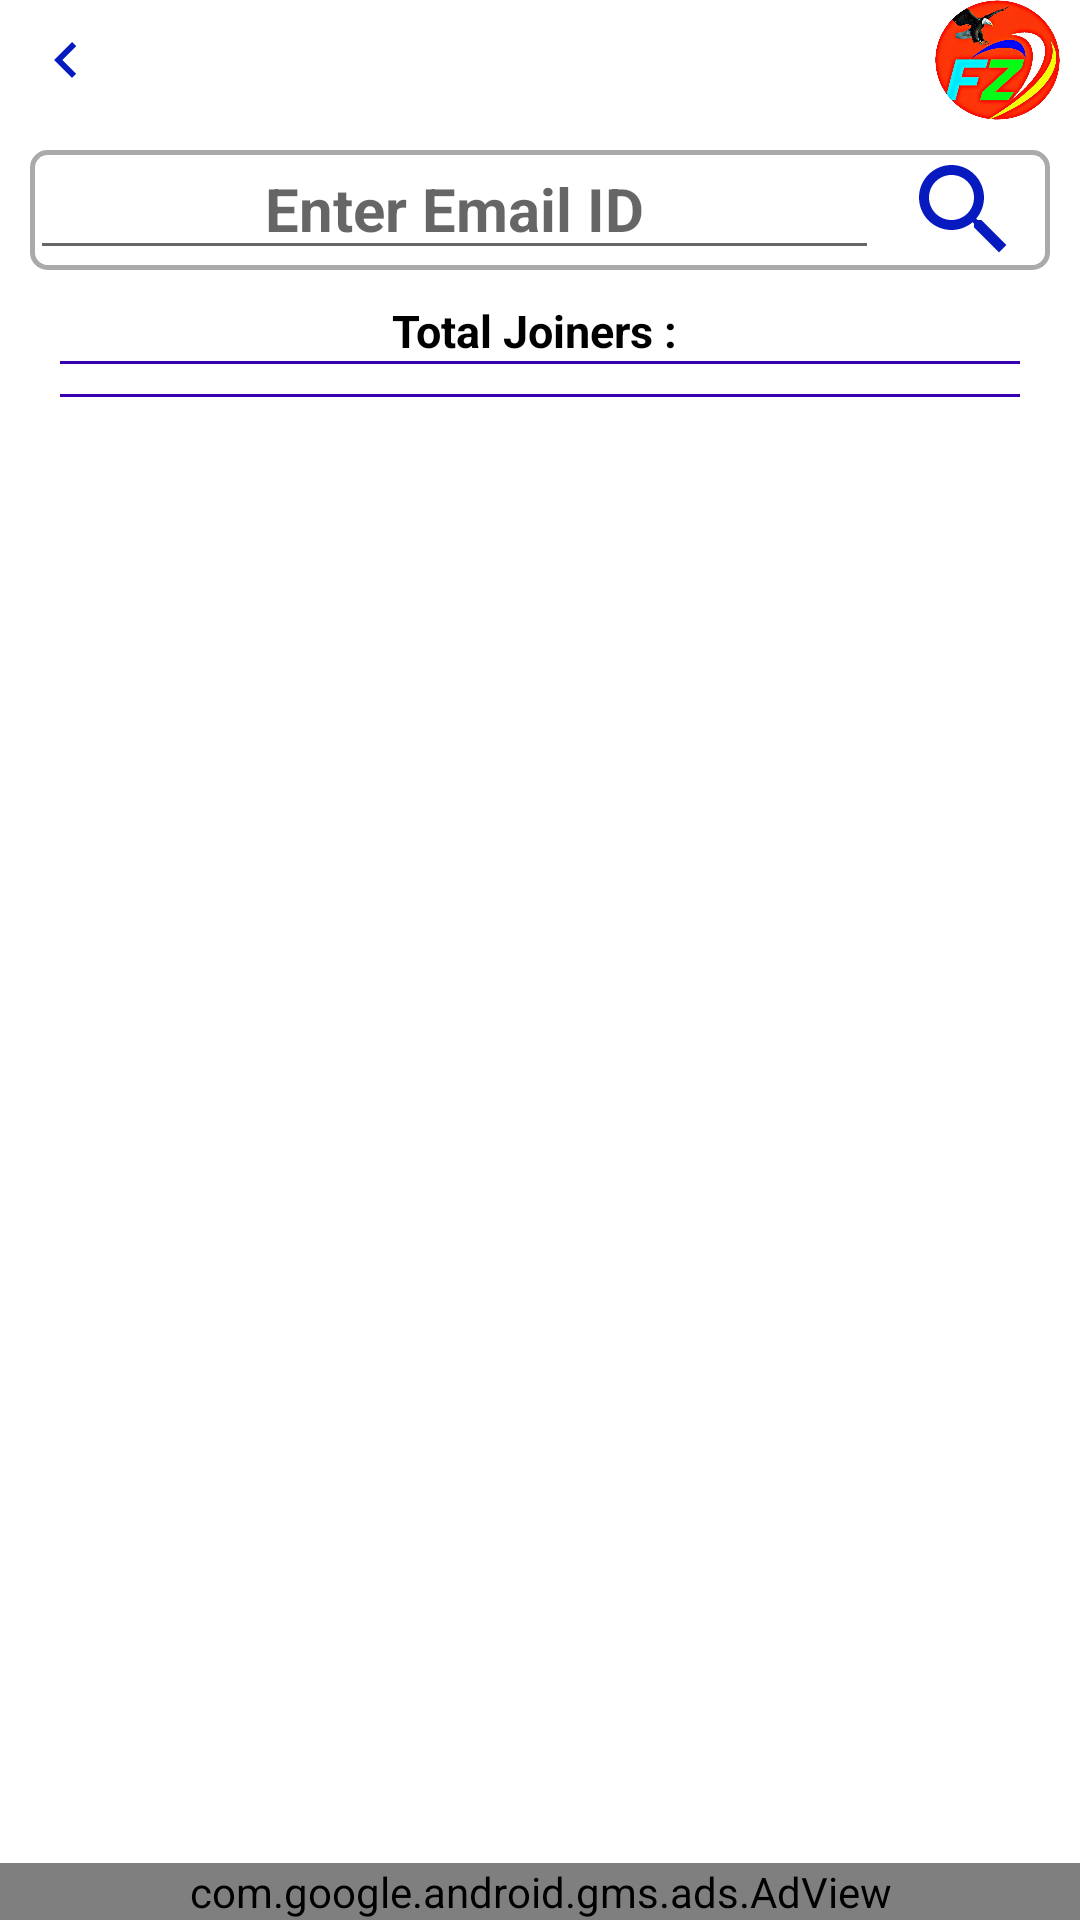

Named icons in this screenshot (1080x1920) and their centers, [x,y]:
keyboard arrow left: [65,60]
search: [962,208]
